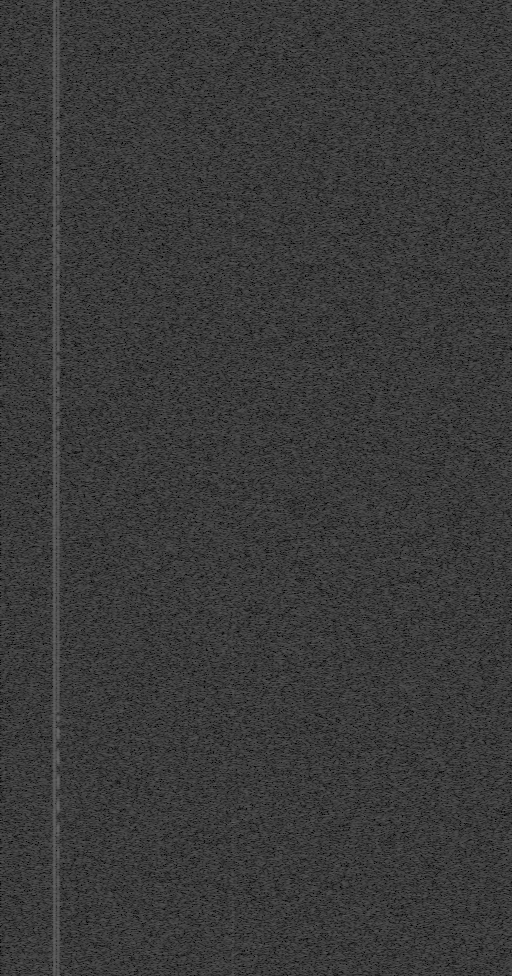wv_am: (55, 355, 61, 714), (55, 0, 61, 353), (55, 821, 61, 976), (55, 796, 61, 816), (55, 772, 61, 791), (55, 747, 61, 766), (55, 724, 61, 741), (55, 715, 61, 723), (56, 742, 60, 746)
wv_cw: (52, 0, 57, 976)
wv_lsb: (231, 884, 235, 932), (231, 686, 235, 721), (231, 815, 235, 843), (231, 599, 235, 626), (231, 933, 235, 956), (231, 32, 235, 55), (231, 567, 235, 588), (231, 11, 235, 31), (231, 100, 235, 119), (231, 957, 235, 976), (231, 56, 235, 74), (231, 797, 235, 814), (231, 640, 235, 657), (231, 547, 235, 561), (231, 309, 235, 323), (231, 235, 235, 249), (231, 392, 235, 405), (231, 525, 235, 537), (231, 379, 235, 391), (231, 501, 235, 512), (231, 765, 235, 775), (231, 658, 235, 668), (231, 415, 235, 425), (231, 345, 235, 355), (231, 335, 235, 344), (231, 289, 235, 298), (231, 279, 235, 288), (231, 259, 235, 268), (231, 176, 235, 185), (231, 82, 235, 91), (231, 844, 235, 852), (231, 731, 235, 739), (231, 677, 235, 685), (231, 202, 235, 210), (231, 164, 235, 172), (231, 133, 235, 141), (231, 747, 235, 754), (231, 669, 235, 676), (231, 493, 235, 500), (231, 440, 235, 447), (231, 211, 235, 218), (231, 122, 235, 129), (231, 877, 235, 883), (231, 629, 235, 635), (231, 589, 235, 595), (231, 540, 235, 546), (231, 450, 235, 456), (231, 369, 235, 375), (231, 223, 235, 229), (231, 871, 235, 876), (231, 725, 235, 730), (231, 487, 235, 492), (231, 409, 235, 414), (231, 76, 235, 81), (231, 791, 235, 795), (231, 482, 235, 486), (231, 433, 235, 437), (231, 364, 235, 368), (231, 356, 235, 360), (231, 324, 235, 328), (231, 304, 235, 308), (231, 299, 235, 303), (231, 254, 235, 258), (231, 636, 235, 639), (231, 478, 235, 481), (231, 468, 235, 471), (231, 426, 235, 429), (231, 275, 235, 278), (231, 269, 235, 272), (231, 144, 235, 147)
